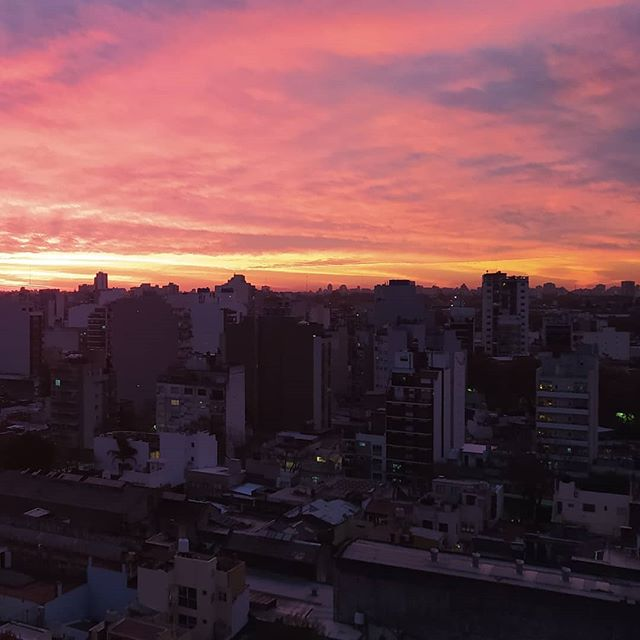building: (377, 353, 463, 497), (138, 536, 250, 640), (150, 367, 245, 456), (91, 294, 186, 383), (534, 353, 596, 472), (476, 273, 536, 360), (49, 355, 96, 445)
sky: (1, 1, 629, 274)
